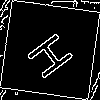H: (25, 25, 83, 81)
